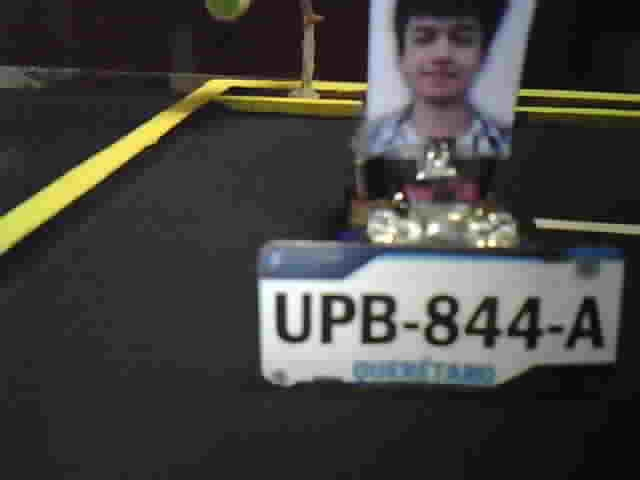PLACA: (253, 236, 626, 392)
ROSTRO: (370, 3, 511, 157)
